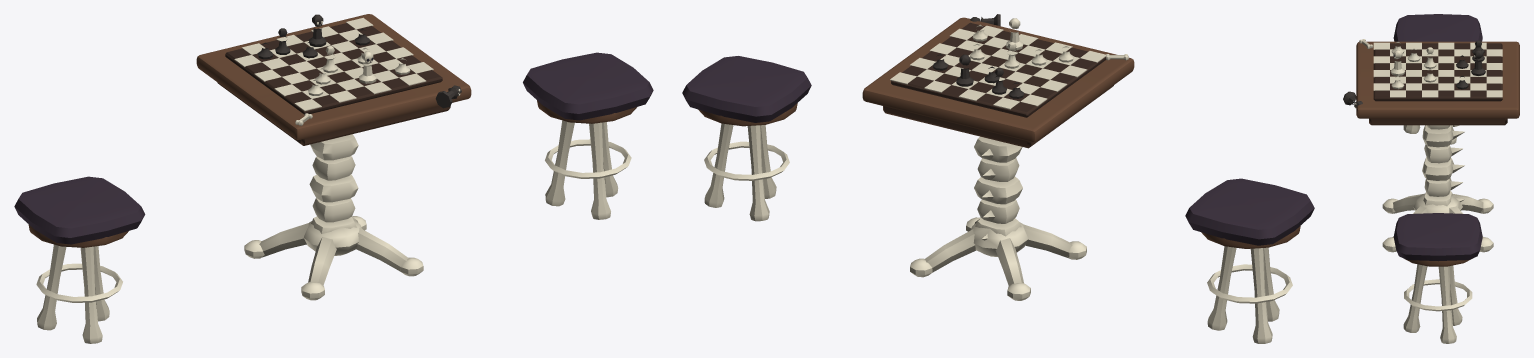
The model's file is table_bonechess.glb.
3 renders of one model, left to right at view 1: azimuth 30°, elevation 25°; view 2: azimuth 150°, elevation 25°; view 3: azimuth 270°, elevation 25°, orthographic. The views are drawn at different scales.
Visible parts, largest first — view 1: table_bonechess; view 2: table_bonechess; view 3: table_bonechess.
Boxes of the visible parts, x1,y1,x2,y2 form: table_bonechess: (14, 14, 653, 343); table_bonechess: (682, 14, 1314, 343); table_bonechess: (1343, 14, 1519, 343).
Size of the model in its own units: 2.26 by 0.828 by 0.7142.
